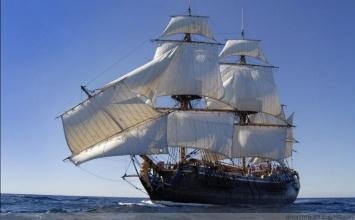fanchuan: (58, 10, 300, 205)
